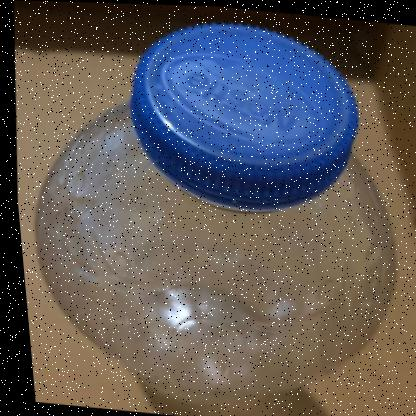bottle cap: (44, 2, 416, 312)
